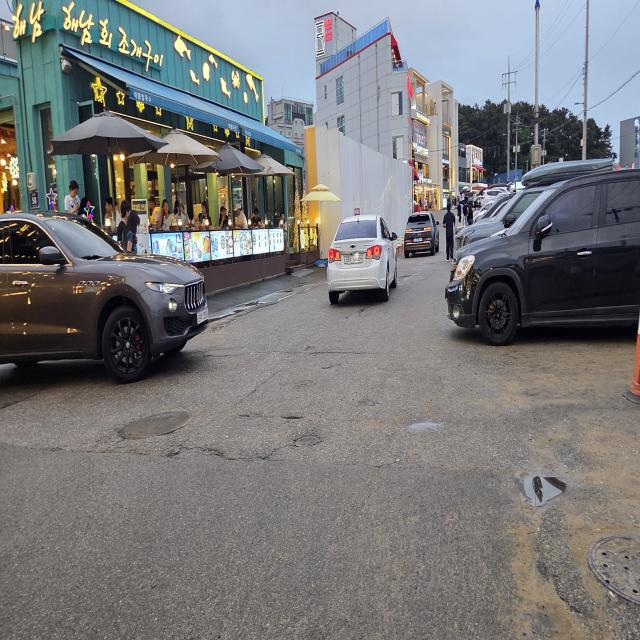car: (1, 200, 224, 390), (440, 165, 640, 352), (319, 198, 405, 308), (400, 205, 448, 260)
